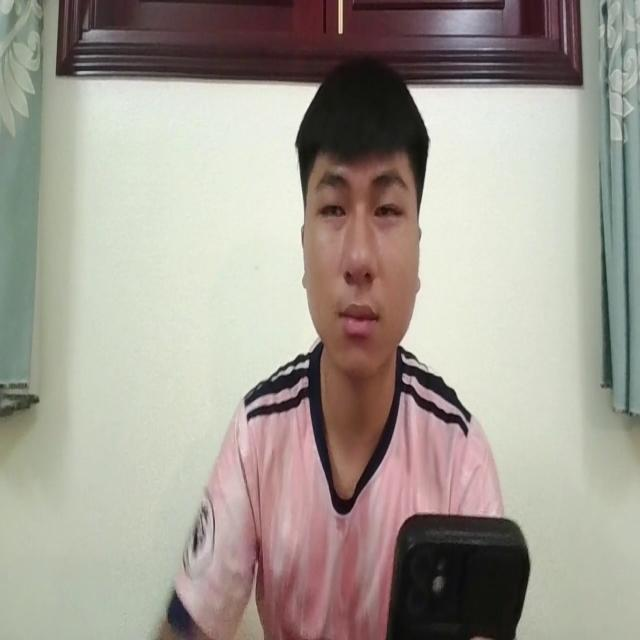phone: (382, 501, 529, 640)
student: (158, 63, 505, 640)
